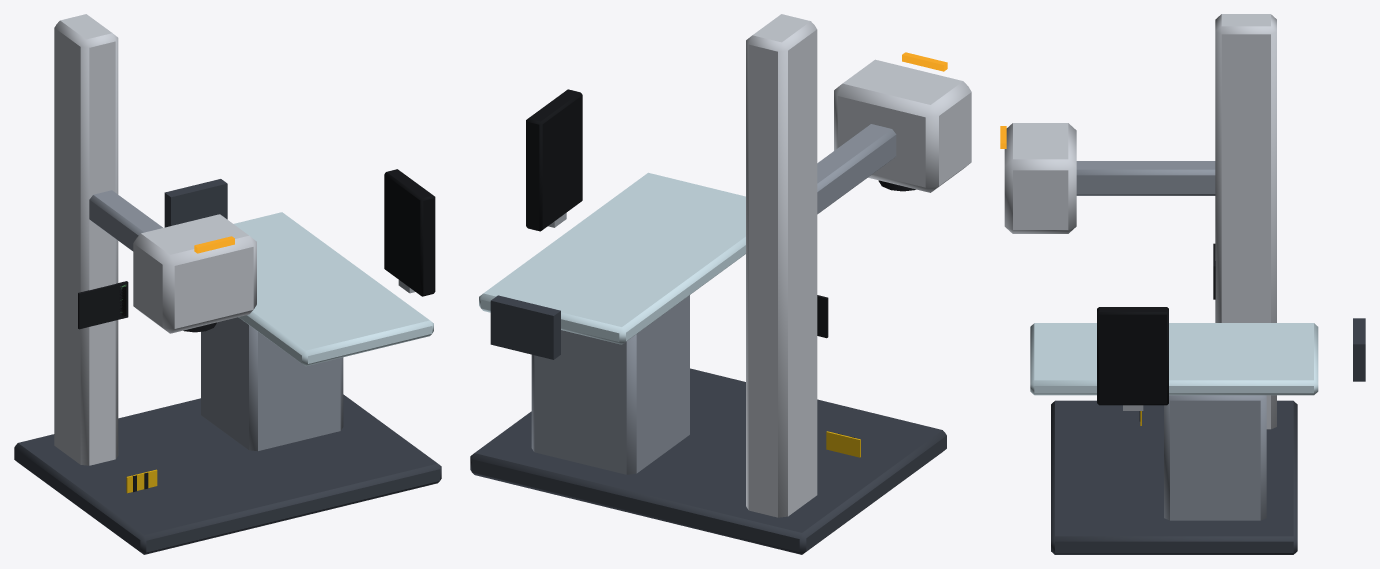
File: medscanner_x_ray_unit.glb
The picture shows the model from 3 angles, left to right: view 1: azimuth 30°, elevation 25°; view 2: azimuth 150°, elevation 25°; view 3: azimuth 270°, elevation 25°; orthographic projection. The views are drawn at different scales.
Visible parts, largest first — view 1: medscanner_x_ray_unit; view 2: medscanner_x_ray_unit; view 3: medscanner_x_ray_unit.
Boxes of the visible parts, x1,y1,x2,y2 form: medscanner_x_ray_unit: (14, 14, 441, 554); medscanner_x_ray_unit: (470, 14, 971, 554); medscanner_x_ray_unit: (1000, 14, 1365, 554).
Bounding box in the file's own units: 1.69 × 2.25 × 1.77.
10 materials, 1 textured.
